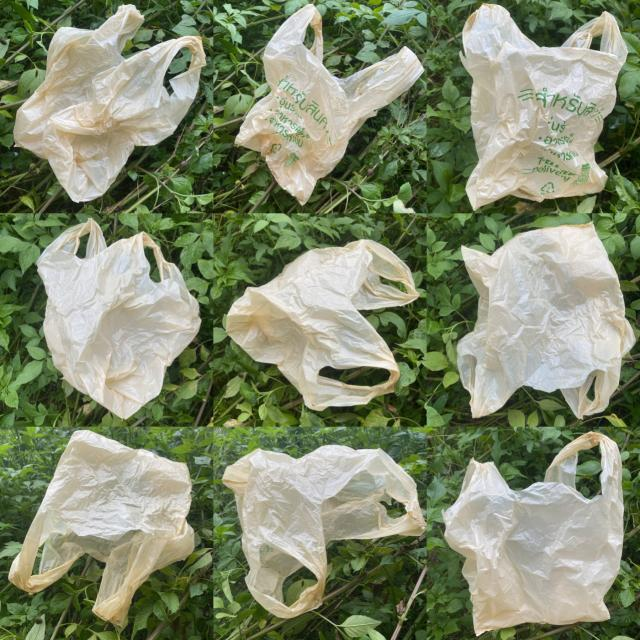Single-layer Plastic: (14, 5, 206, 202), (235, 4, 424, 204), (444, 432, 624, 635), (9, 430, 194, 625), (222, 445, 426, 618), (458, 224, 635, 419), (460, 4, 628, 209), (226, 240, 419, 410), (38, 219, 201, 418)
